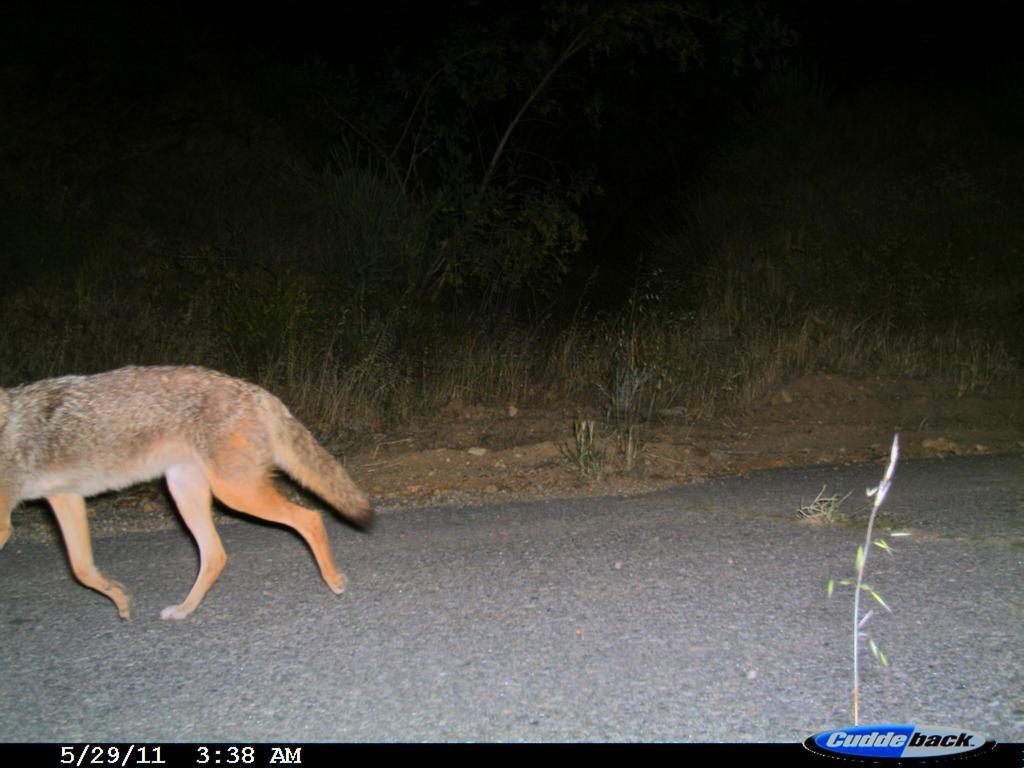coyote: (1, 346, 382, 649)
